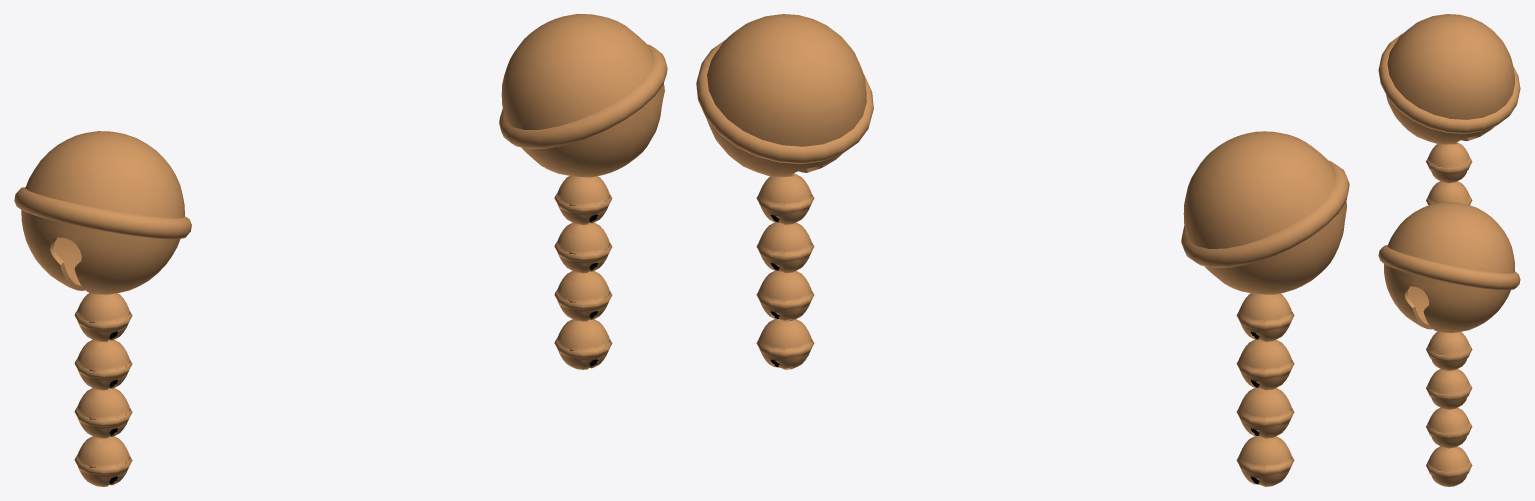
File: Youaier_Lingdang.fbx
3 renders of one model, left to right at view 1: azimuth 30°, elevation 25°; view 2: azimuth 150°, elevation 25°; view 3: azimuth 270°, elevation 25°, orthographic. The views are drawn at different scales.
Visible parts, largest first — view 1: Object002; view 2: Object002; view 3: Object002.
Part boxes in pixels (x1,y1,x2,y2): Object002: (14, 14, 667, 486); Object002: (696, 14, 1349, 486); Object002: (1378, 14, 1520, 486).
Size of the model in its own units: 354 by 186 by 86.48.
